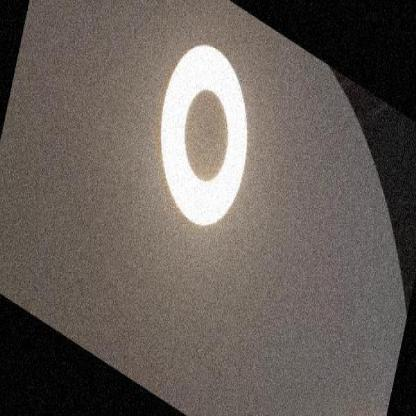light_on: (134, 6, 271, 260), (346, 399, 388, 415)
